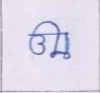i_matra: (42, 20, 67, 53)
